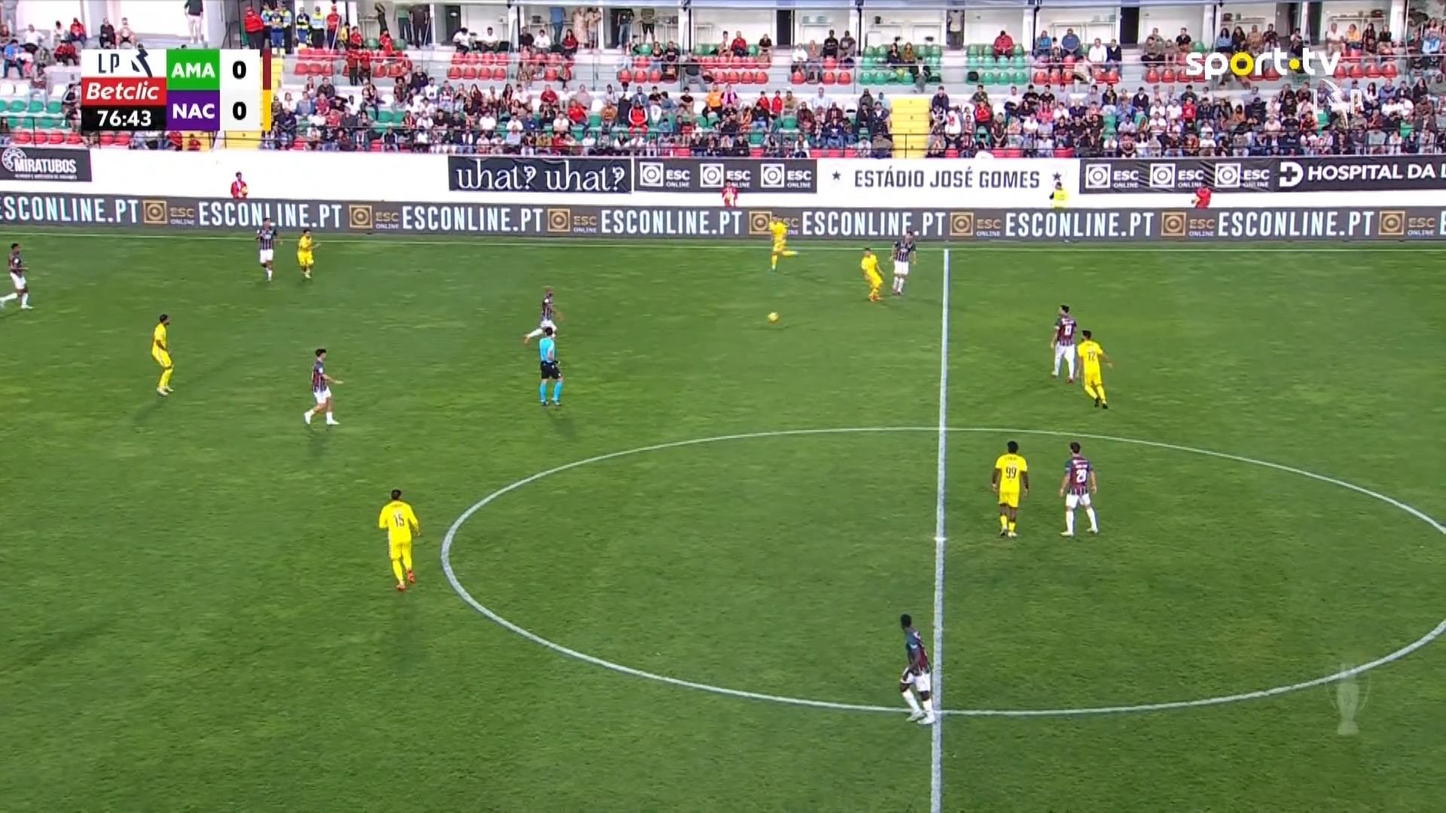ball: (767, 311, 778, 322)
player: (377, 488, 421, 591), (898, 612, 935, 723), (1058, 440, 1099, 537), (990, 440, 1029, 537), (302, 348, 343, 428), (1075, 328, 1113, 408), (1049, 303, 1078, 383), (0, 241, 33, 309), (521, 288, 562, 341), (765, 212, 798, 271), (151, 312, 174, 396), (888, 230, 917, 295), (255, 217, 279, 281), (859, 246, 885, 302), (295, 226, 320, 279)
referee: (538, 325, 564, 406), (1048, 175, 1069, 241)
